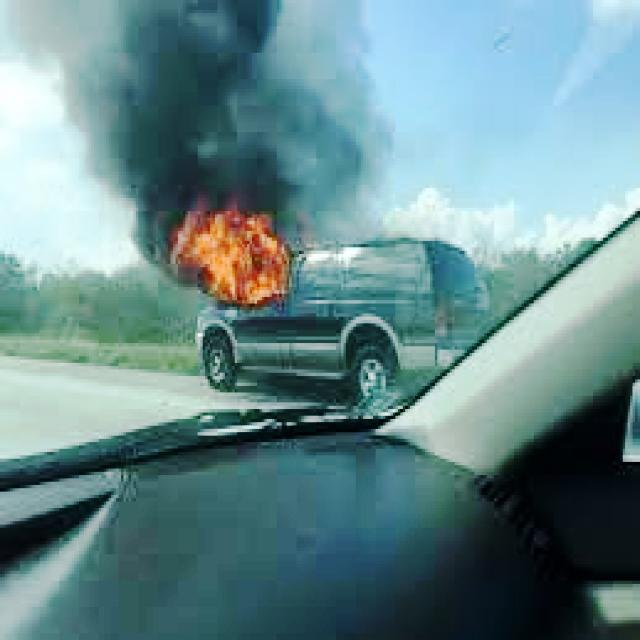api: (149, 196, 298, 311)
